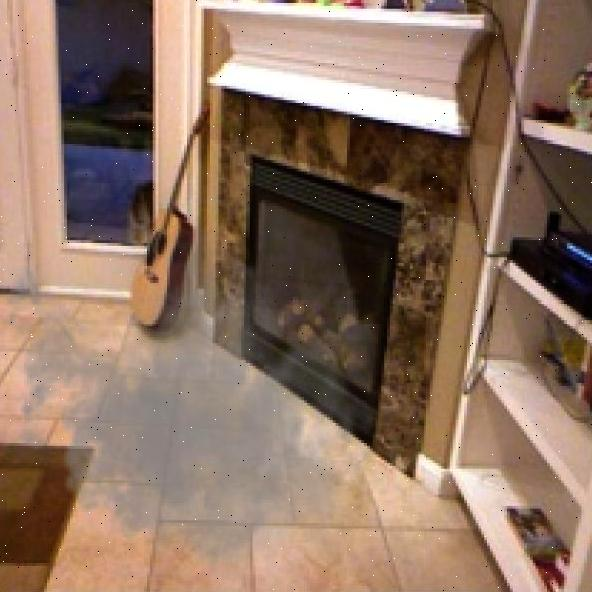smoke: (0, 198, 381, 592)
